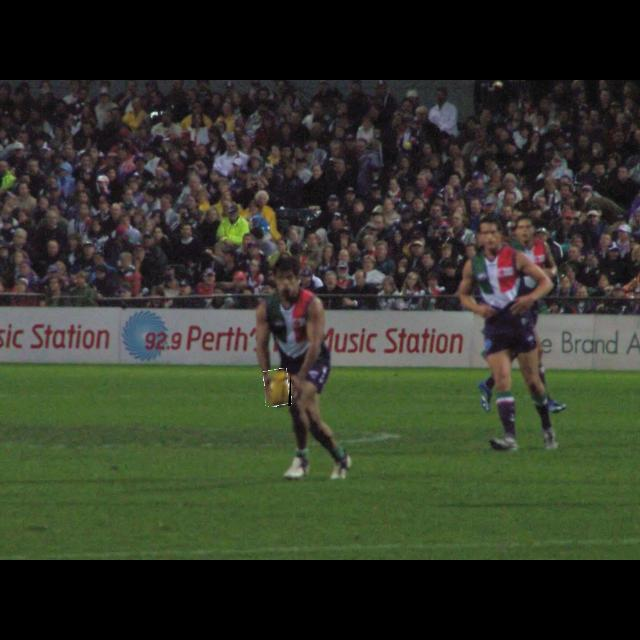Football: (265, 370, 291, 406)
